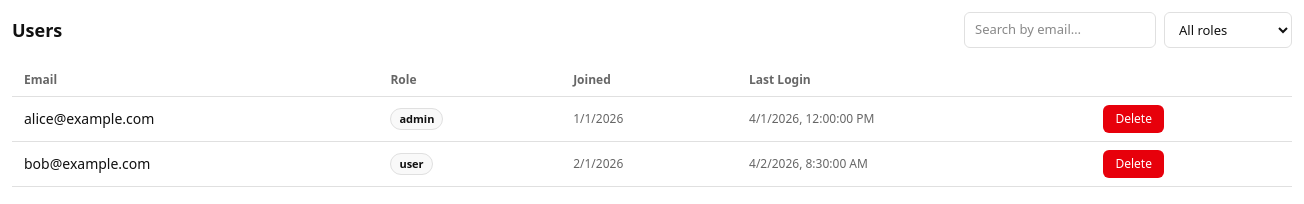
Test: UsersPanel › shows no-match message when filters exclude all users
Type "zzz" into the field with test id "email-search". click: (1060, 30)
box: [964,12,1156,48]
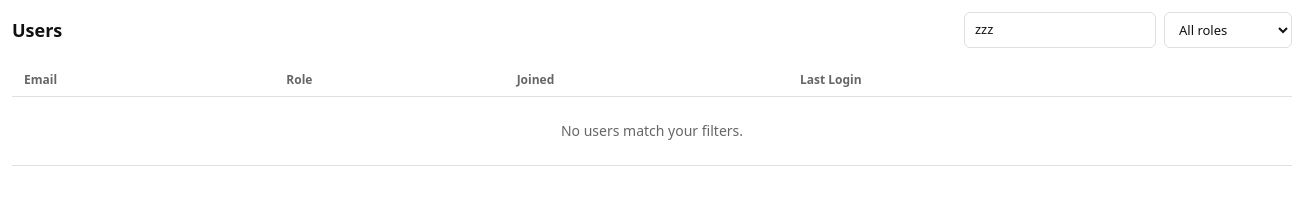
Check: the text "No users match your filters." is shown, box [12,96,1292,166]
